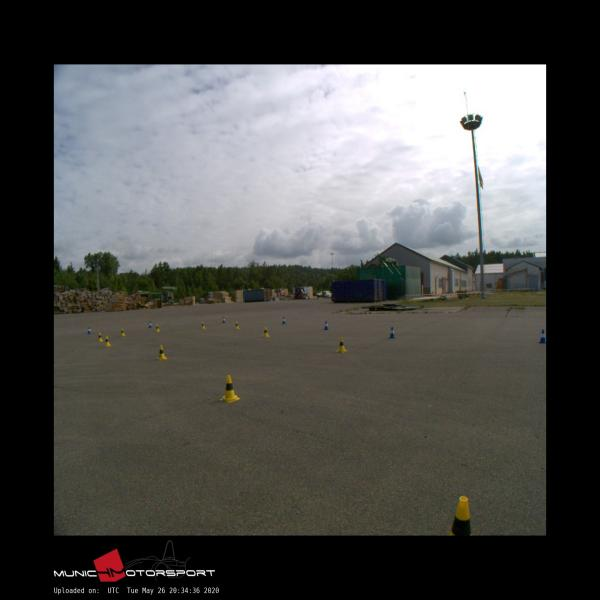blue_cone: (538, 329, 546, 343), (388, 326, 396, 338), (323, 321, 329, 330), (87, 326, 91, 334), (282, 316, 286, 324), (148, 321, 152, 328), (222, 317, 226, 323)
yellow_cone: (449, 497, 471, 535), (220, 375, 240, 402), (156, 345, 167, 359), (337, 337, 346, 352), (103, 336, 110, 346), (263, 326, 269, 336), (97, 332, 102, 341), (120, 327, 125, 336), (155, 324, 160, 332), (235, 321, 240, 329), (201, 321, 205, 329)
